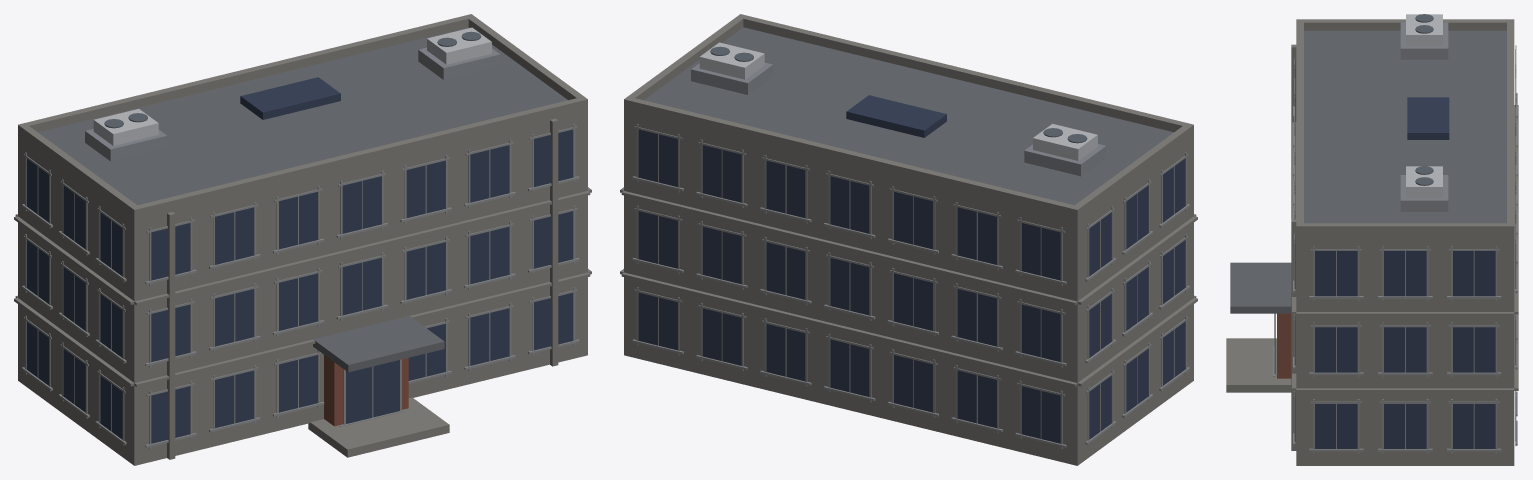
The model's file is civic_long_07_lvl1.glb.
3 renders of one model, left to right at view 1: azimuth 30°, elevation 25°; view 2: azimuth 150°, elevation 25°; view 3: azimuth 270°, elevation 25°, orthographic. The views are drawn at different scales.
Parts seen in each view (by area): view 1: civic_long_07; view 2: civic_long_07; view 3: civic_long_07.
Boxes of the visible parts, box(x1,y1,x2,y2) form: civic_long_07: box(14, 14, 591, 465); civic_long_07: box(620, 14, 1197, 465); civic_long_07: box(1226, 14, 1518, 465).
Bounding box in the file's own units: 1 × 0.5976 × 0.5861.
